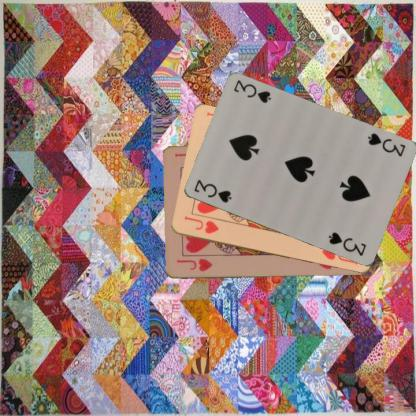3s: (365, 130, 406, 158), (191, 177, 233, 204)
Jh: (182, 214, 219, 235), (174, 256, 213, 273)
